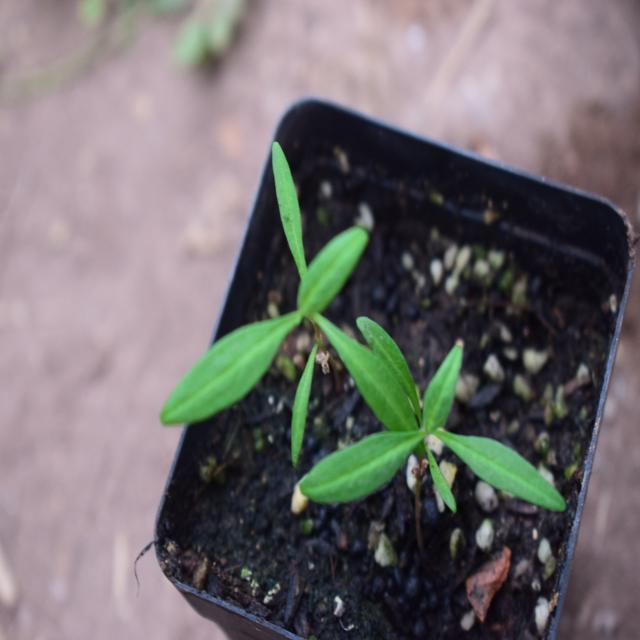white_smart_weed: (153, 157, 416, 460), (290, 339, 564, 555)
